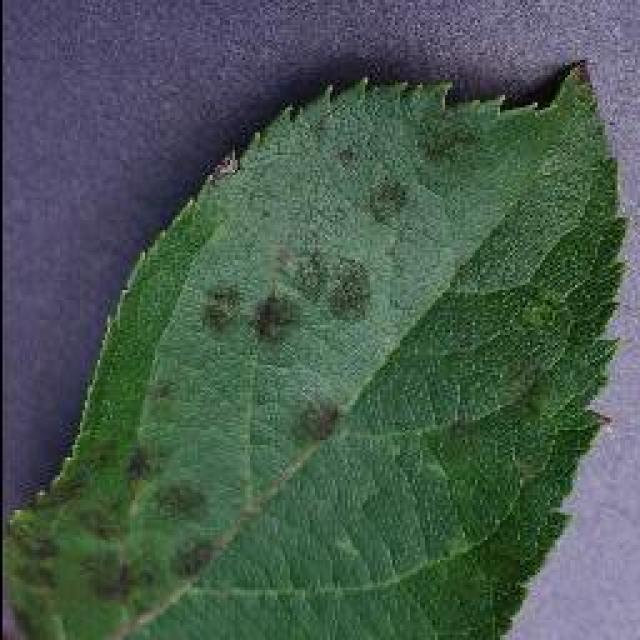apple scab disease: (2, 55, 628, 637)
